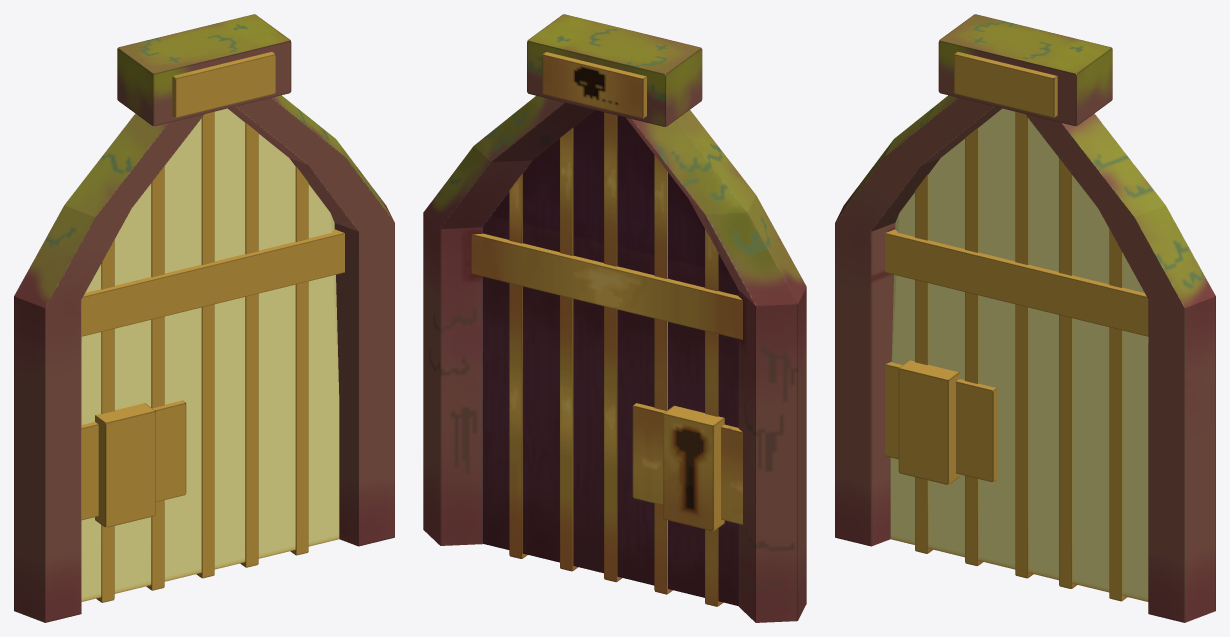
File: door.obj
3 views of the same model, side by side, from view 1: azimuth 30°, elevation 25°; view 2: azimuth 150°, elevation 25°; view 3: azimuth 330°, elevation 25° (orthographic).
Visible parts, largest first — view 1: cube, cylinder; view 2: cube, cylinder; view 3: cube, cylinder.
Boxes of the visible parts, <box> form: cube: <box>81,14,344,602</box>; cylinder: <box>14,95,394,622</box>; cube: <box>471,14,742,606</box>; cylinder: <box>423,95,806,622</box>; cube: <box>885,14,1148,601</box>; cylinder: <box>835,95,1215,622</box>.
Size of the model in its own units: 0.9282 by 1.26 by 0.1875.
